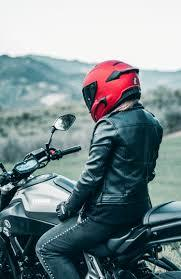Helmet: (82, 60, 143, 121)
